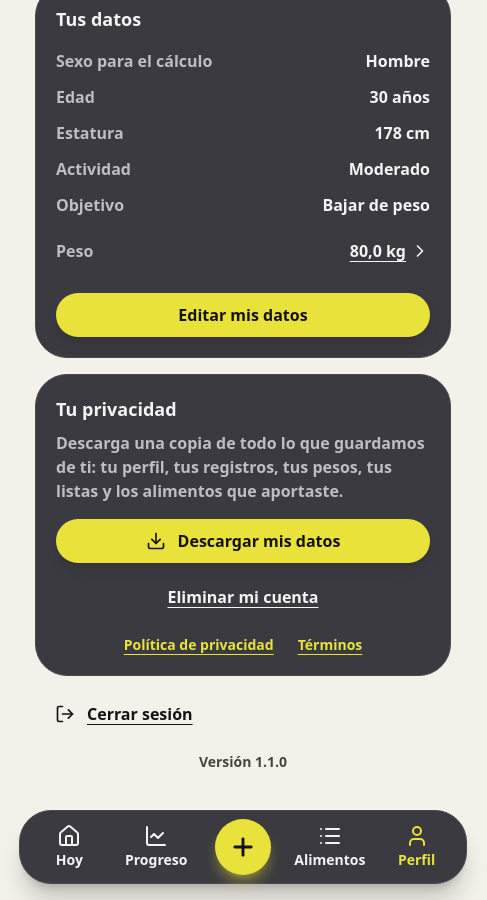
Scenario: ProfilePage › downloads the own data as JSON (HU-16 CA1)
(page scrolled)
Click the button "Descargar mis datos": (243, 541) x1=56 y1=519 x2=430 y2=563
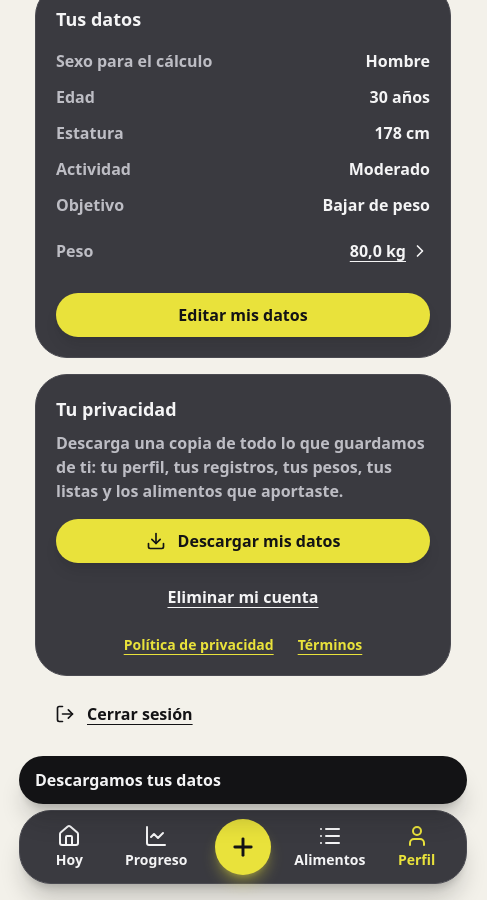
Now the text "Descargamos tus datos" is shown, box x1=35 y1=768 x2=221 y2=792
